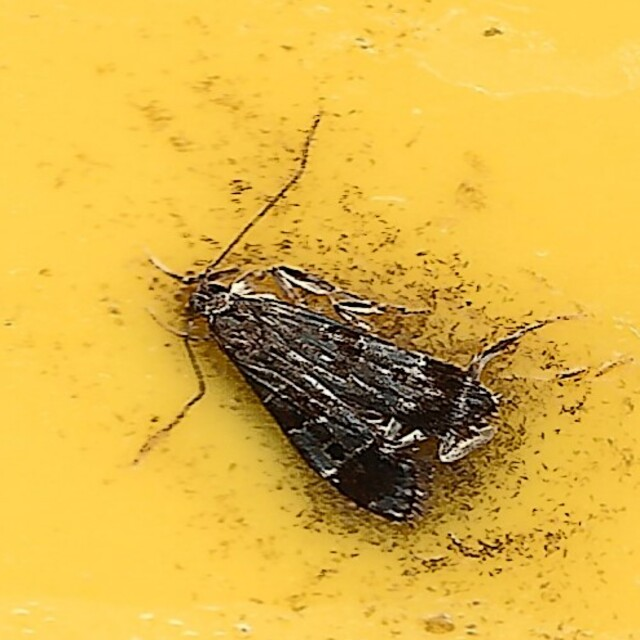Lepidoptera: (129, 108, 511, 532)
